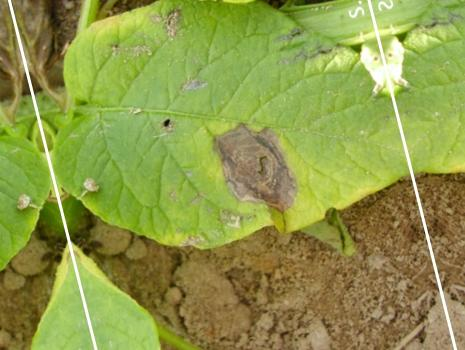Tomato Early blight leaf: (25, 0, 416, 293)
